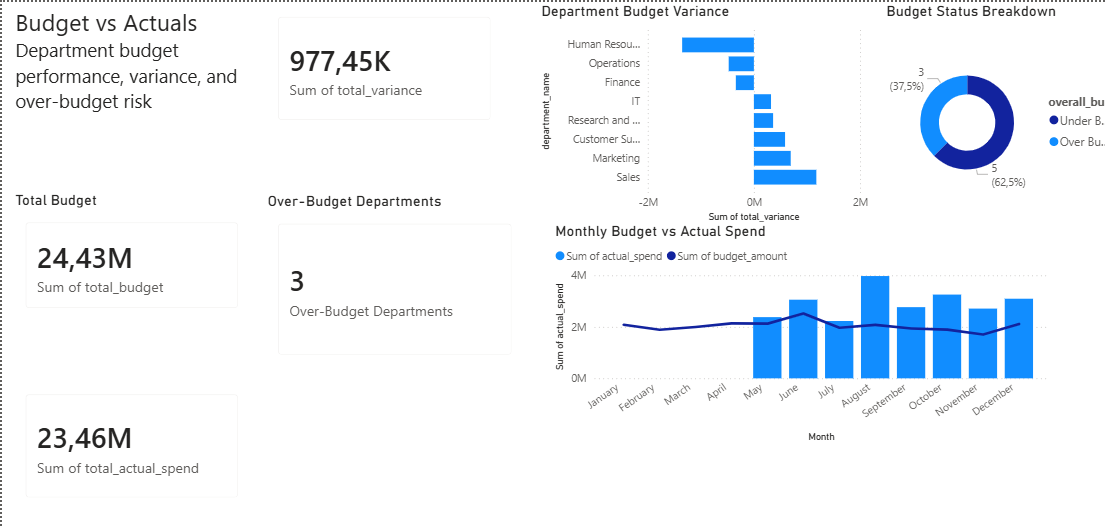

What the dashboard file says about the page in this screenshot:
{"tool":"powerbi","page":{"name":"Budget vs Actuals","canvas":[1280,720],"ordinal":3},"visuals":[{"type":"textbox","box":[10,0,276.7,151.7],"z":0},{"type":"cardVisual","title":"Total Budget","fields":{"Data":["Sum(department_budget_summary.total_budget)"]},"box":[10,216,277,152],"z":1},{"type":"cardVisual","fields":{"Data":["Sum(department_budget_summary.total_actual_spend)"]},"box":[10,432,277,152],"z":2},{"type":"cardVisual","fields":{"Data":["Sum(department_budget_summary.total_variance)"]},"box":[298.5,0,277,152],"z":3},{"type":"cardVisual","title":"Over-Budget Departments","fields":{"Data":["department_budget_summary.Over-Budget Departments"]},"box":[298.3,216.7,301.7,203.3],"z":4},{"type":"clusteredBarChart","title":"Department Budget Variance","fields":{"Category":["department_budget_summary.department_name"],"Y":["Sum(department_budget_summary.total_variance)"]},"box":[611.7,0,383.3,256.7],"z":5},{"type":"donutChart","title":"Budget Status Breakdown","fields":{"Category":["department_budget_summary.overall_budget_status"],"Y":["CountNonNull(department_budget_summary.overall_budget_status)"]},"box":[1005,0,275,256.7],"z":6},{"type":"lineClusteredColumnComboChart","title":"Monthly Budget vs Actual Spend","fields":{"Category":["budget_vs_actual.budget_month_name.Variation.Date Hierarchy.Month"],"Y":["Sum(budget_vs_actual.actual_spend)"],"Y2":["Sum(budget_vs_actual.budget_amount)"]},"box":[626.7,251.7,573.3,256.7],"z":7}]}

Visuals, with their boxes on the page's 1280x720 design canvas (x1, y1, x2, y2). These are canvas units, not pixel positions in the 1105x526 screenshot, which may show the page scaled, cropped or inside an application window:
textbox: crop(10, 0, 287, 152)
"Total Budget" cardVisual: crop(10, 216, 287, 368)
cardVisual - Sum(department_budget_summary.total_actual_spend): crop(10, 432, 287, 584)
cardVisual - Sum(department_budget_summary.total_variance): crop(298, 0, 576, 152)
"Over-Budget Departments" cardVisual: crop(298, 217, 600, 420)
"Department Budget Variance" clusteredBarChart: crop(612, 0, 995, 257)
"Budget Status Breakdown" donutChart: crop(1005, 0, 1280, 257)
"Monthly Budget vs Actual Spend" lineClusteredColumnComboChart: crop(627, 252, 1200, 508)
